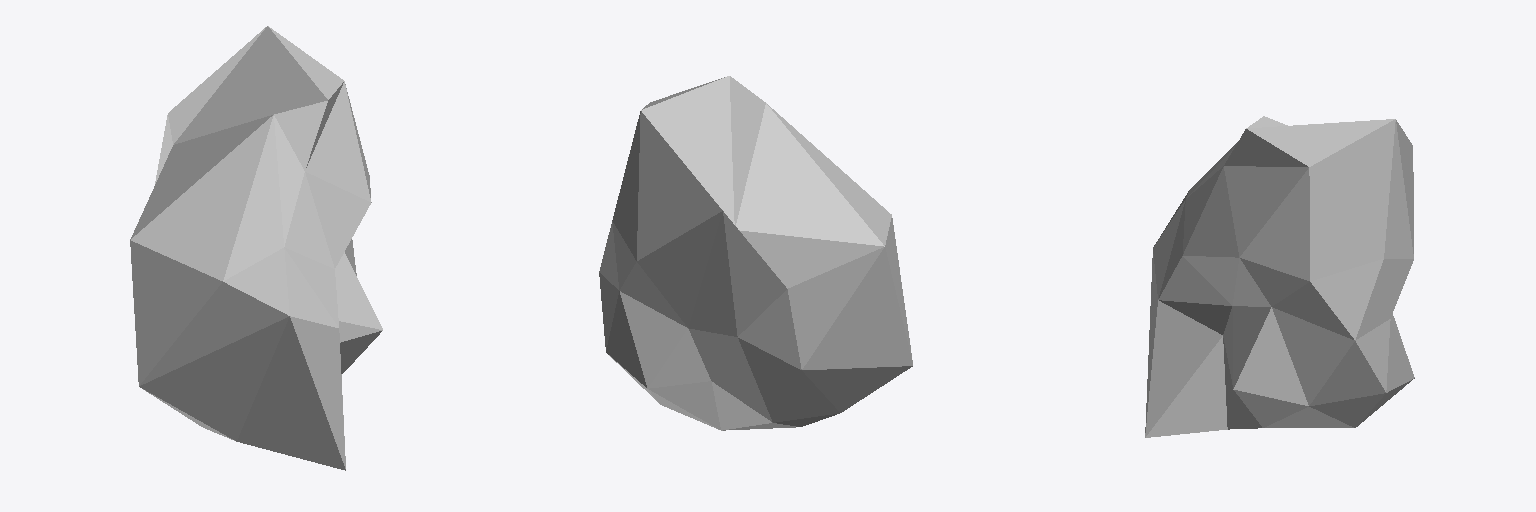
Rendered from rock-6.obj.
3 views of the same model, side by side, from view 1: azimuth 30°, elevation 25°; view 2: azimuth 150°, elevation 25°; view 3: azimuth 270°, elevation 25° (orthographic).
Parts seen in each view (by area): view 1: Icosphere.006; view 2: Icosphere.006; view 3: Icosphere.006.
Boxes of the visible parts, box(x1,y1,x2,y2) form: Icosphere.006: box(130, 26, 382, 470); Icosphere.006: box(599, 76, 912, 430); Icosphere.006: box(1145, 116, 1414, 437).
Size of the model in its own units: 0.4678 by 0.5824 by 0.4164.